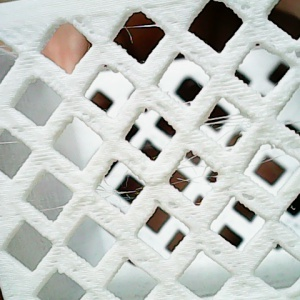3dpstringing: (173, 157, 219, 195), (202, 113, 252, 145), (94, 178, 144, 207), (122, 21, 164, 42), (248, 150, 286, 165), (41, 201, 69, 218), (3, 41, 22, 63), (283, 114, 300, 130), (3, 135, 23, 148), (288, 203, 300, 213)
3dpunderextrusion: (71, 15, 108, 43), (219, 185, 261, 209), (195, 239, 224, 261), (149, 199, 183, 215), (236, 3, 259, 26)
